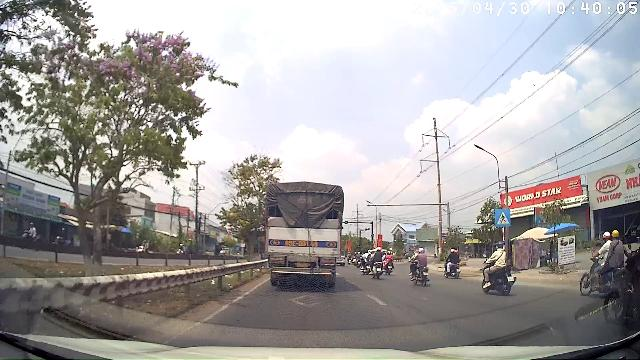423a-duong-nguoi-di-bo-sang-ngang-1: (496, 209, 510, 226)
